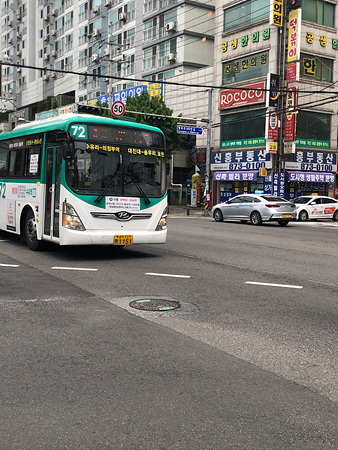bnum: (69, 121, 86, 139)
